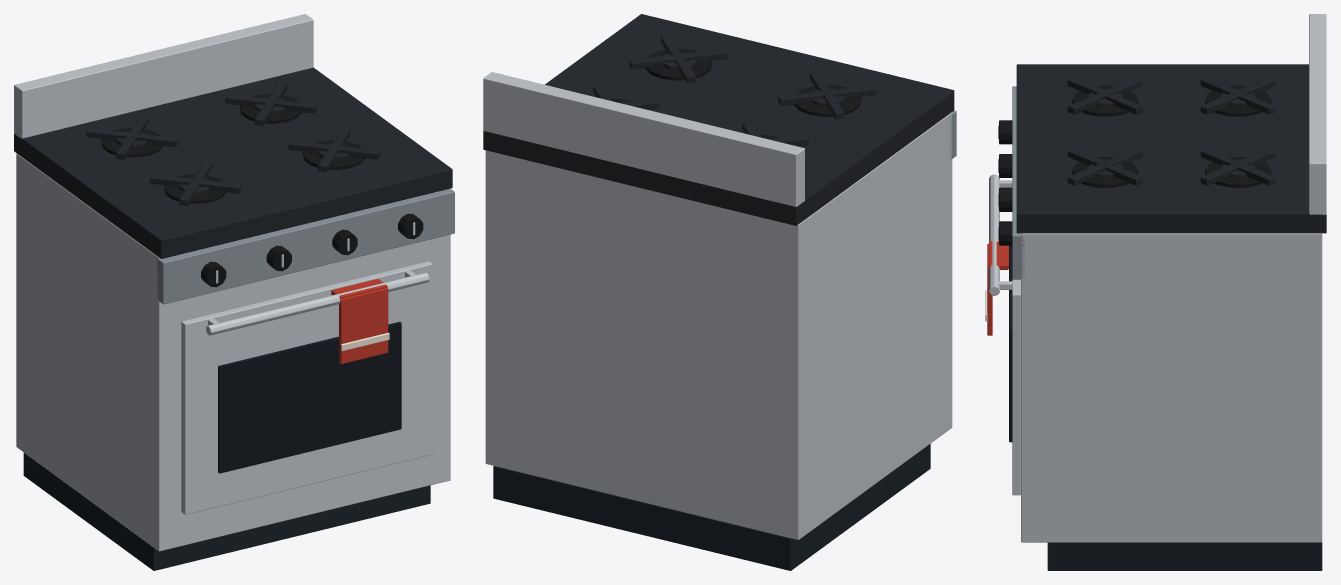
The model's file is Stove.glb.
3 views of the same model, side by side, from view 1: azimuth 30°, elevation 25°; view 2: azimuth 150°, elevation 25°; view 3: azimuth 270°, elevation 25° (orthographic). The views are drawn at different scales.
Parts seen in each view (by area): view 1: Stove; view 2: Stove; view 3: Stove.
Boxes of the visible parts, x1=… form: Stove: x1=14, y1=14, x2=454, y2=570; Stove: x1=483, y1=14, x2=956, y2=570; Stove: x1=985, y1=14, x2=1326, y2=570.
Size of the model in its own units: 0.8 by 1.02 by 0.771.
